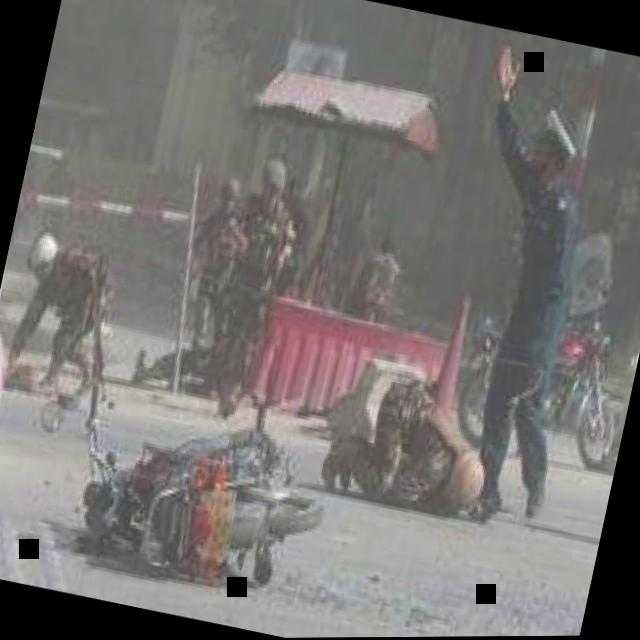Fall-Detected: (304, 346, 520, 531)
